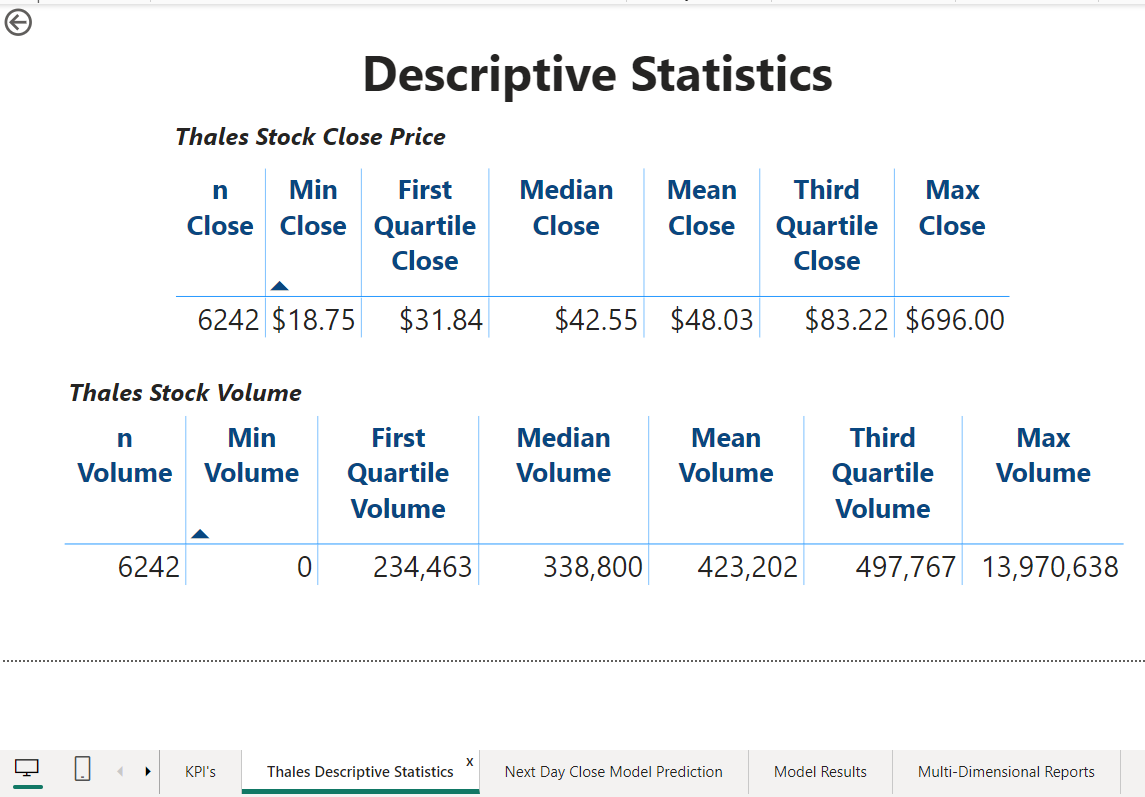

What the dashboard file says about the page in this screenshot:
{"tool":"powerbi","page":{"name":"Thales Descriptive Statistics","canvas":[1280,720],"ordinal":1},"visuals":[{"type":"textbox","box":[249.4,20,782.2,70.8],"z":0},{"type":"actionButton","box":[0,0,100,40],"z":1000},{"type":"tableEx","fields":{"Values":["Close_Desc_Stats.n Close","THALES_STOCK.Min Close Price","THALES_STOCK.Thales Close First Quartile1","THALES_STOCK.Median","THALES_STOCK.Average Close Price","THALES_STOCK.Thales Close First Quartile","THALES_STOCK.Max Close Price"]},"box":[161.4,250.3,957.3,96.6],"z":2000},{"type":"tableEx","fields":{"Values":["Volumes_Desc_Stats.n Volume","Volumes_Desc_Stats.Min Volume","Volumes_Desc_Stats.First Quartile Volume","Volumes_Desc_Stats.Mean Volume","vw_THA_BB.Median Volume","Volumes_Desc_Stats.Third Quartile Volume","Volumes_Desc_Stats.Max Volume"]},"box":[86.7,443.5,1105.5,99.9],"z":3000},{"type":"textbox","box":[161.4,197.6,321.6,52.7],"z":4000},{"type":"textbox","box":[86.7,390.8,276.6,52.7],"z":5000}]}

Visuals, with their boxes on the page's 1280x720 design canvas (x1, y1, x2, y2). These are canvas units, not pixel positions in the 1145x797 screenshot, which may show the page scaled, cropped or inside an application window:
textbox: <box>249,20,1032,91</box>
actionButton: <box>0,0,100,40</box>
tableEx - Close_Desc_Stats.n Close x THALES_STOCK.Min Close Price: <box>161,250,1119,347</box>
tableEx - Volumes_Desc_Stats.n Volume x Volumes_Desc_Stats.Min Volume: <box>87,444,1192,543</box>
textbox: <box>161,198,483,250</box>
textbox: <box>87,391,363,444</box>
